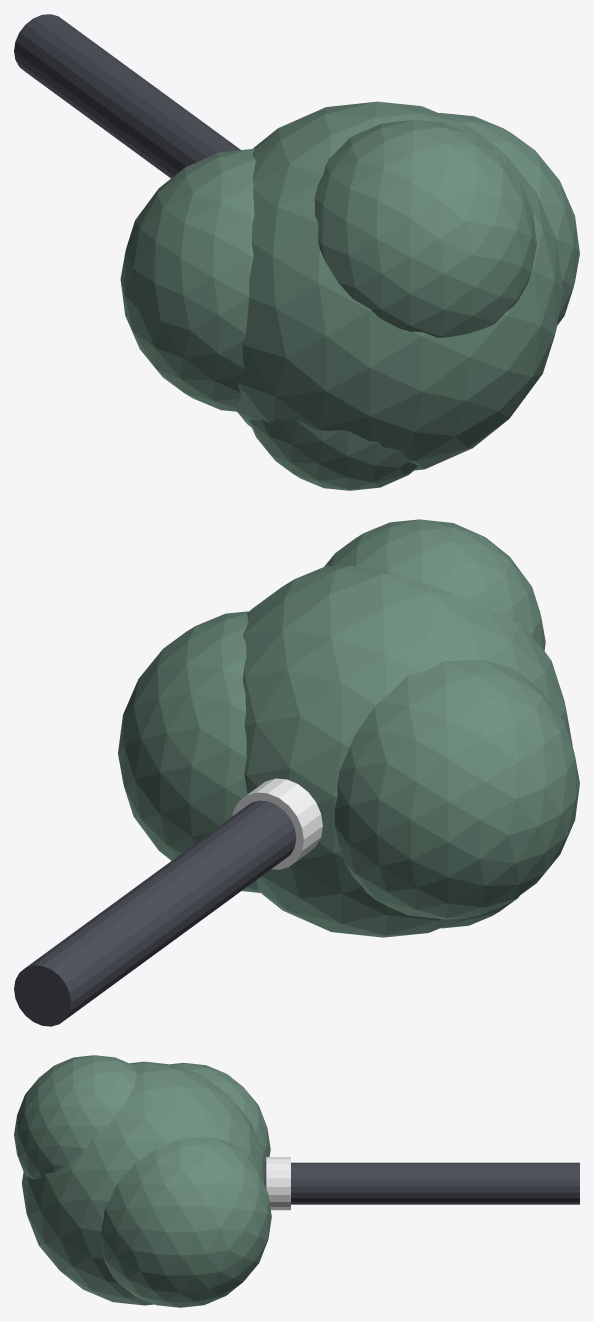
File: signature_hybrid_tree.glb
3 views of the same model, one above another, from view 1: azimuth 30°, elevation 25°; view 2: azimuth 150°, elevation 25°; view 3: azimuth 270°, elevation 25° (orthographic). The views are drawn at different scales.
Parts seen in each view (by area): view 1: signature_hybrid_tree_part_2, signature_hybrid_tree_part_5, signature_hybrid_tree_part_3, signature_hybrid_tree_part_0, signature_hybrid_tree_part_6, signature_hybrid_tree_part_4; view 2: signature_hybrid_tree_part_3, signature_hybrid_tree_part_2, signature_hybrid_tree_part_4, signature_hybrid_tree_part_0, signature_hybrid_tree_part_5, signature_hybrid_tree_part_1; view 3: signature_hybrid_tree_part_4, signature_hybrid_tree_part_2, signature_hybrid_tree_part_0, signature_hybrid_tree_part_5, signature_hybrid_tree_part_3, signature_hybrid_tree_part_1.
Boxes of the visible parts, x1,y1,x2,y2 form: signature_hybrid_tree_part_2: (235,101,563,470); signature_hybrid_tree_part_5: (314,120,536,337); signature_hybrid_tree_part_3: (120,148,255,411); signature_hybrid_tree_part_0: (14,14,240,178); signature_hybrid_tree_part_6: (250,419,417,490); signature_hybrid_tree_part_4: (439,113,579,325); signature_hybrid_tree_part_3: (334,659,579,919); signature_hybrid_tree_part_2: (243,565,572,937); signature_hybrid_tree_part_4: (118,611,259,892); signature_hybrid_tree_part_0: (14,800,296,1026); signature_hybrid_tree_part_5: (324,519,545,650); signature_hybrid_tree_part_1: (232,778,322,869); signature_hybrid_tree_part_4: (100,1136,271,1307); signature_hybrid_tree_part_2: (22,1061,264,1305); signature_hybrid_tree_part_0: (263,1162,579,1204); signature_hybrid_tree_part_5: (14,1055,137,1179); signature_hybrid_tree_part_3: (171,1062,270,1162); signature_hybrid_tree_part_1: (266,1157,290,1210).
Size of the model in its own units: 2.84 by 2.3 by 5.07.
